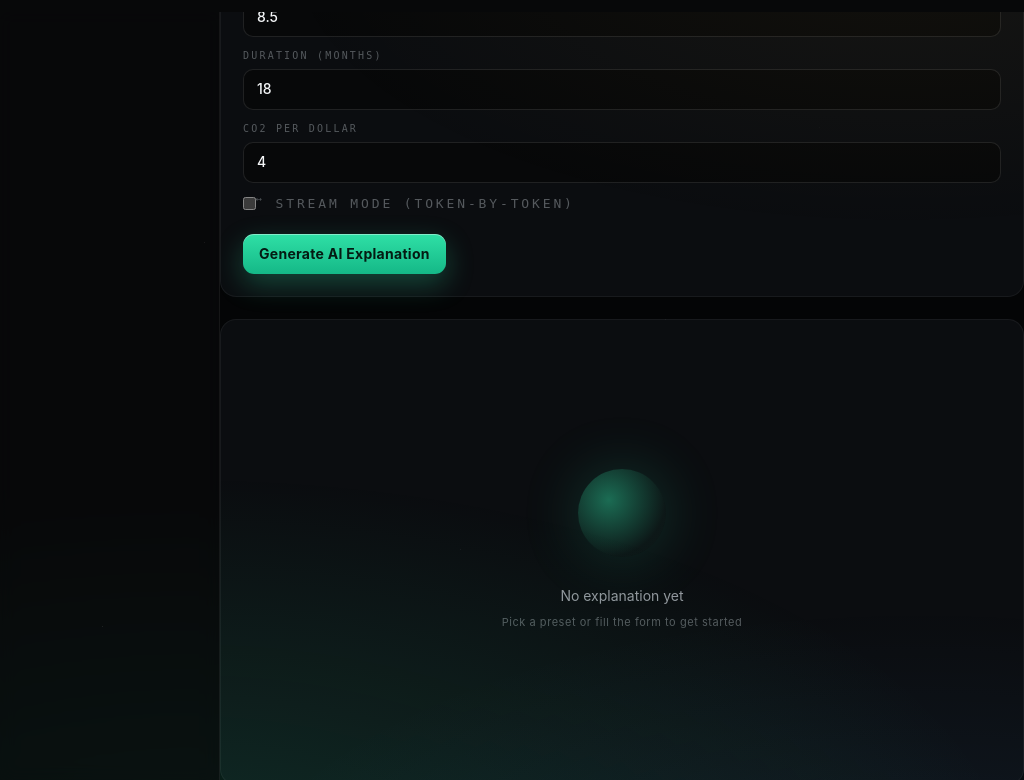
Test: CopilotPage (production path) › shows a retrieval score as a similarity with two decimals and no percent sign (F023)
The width and height of the screenshot is (1024, 780).
(page scrolled)
Click the button "Generate AI Explanation": (344, 254) [243,234,446,274]
(page scrolled)
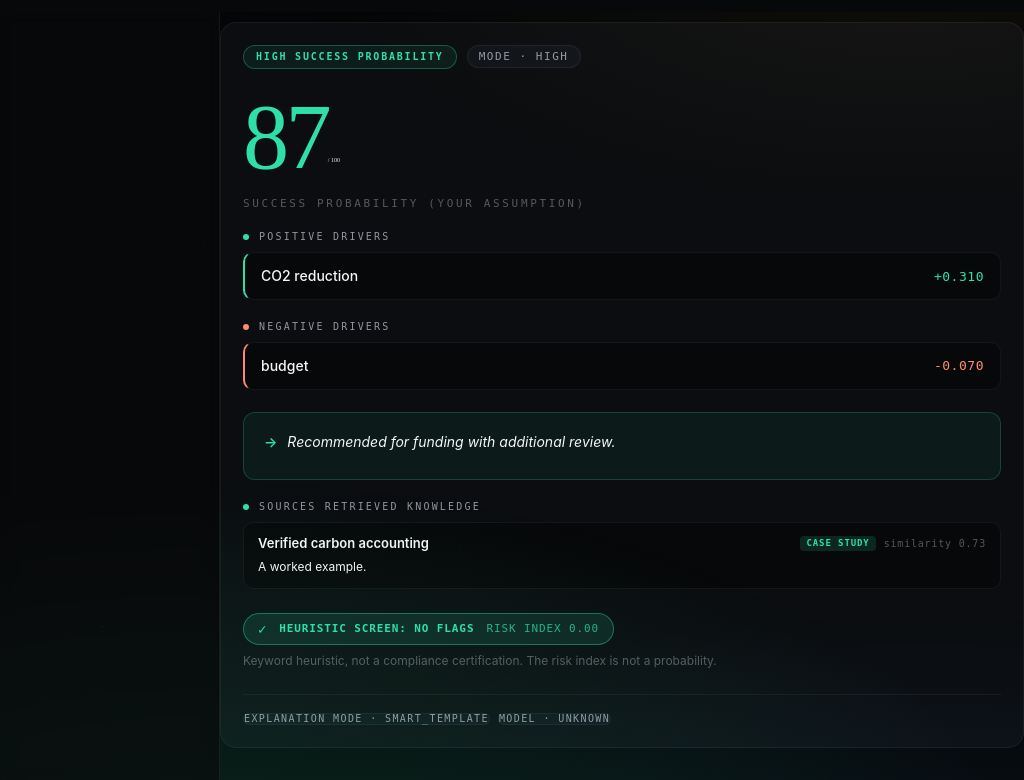
Check: the text "Recommended for funding with additional review." is shown, box [287,431,615,453]
Check: the text "similarity 0.73" is shown, box [884,538,986,548]
